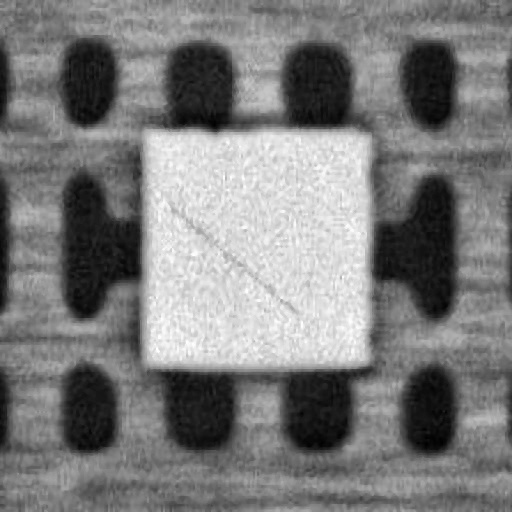DIE_CRACK: (258, 135, 444, 202)
